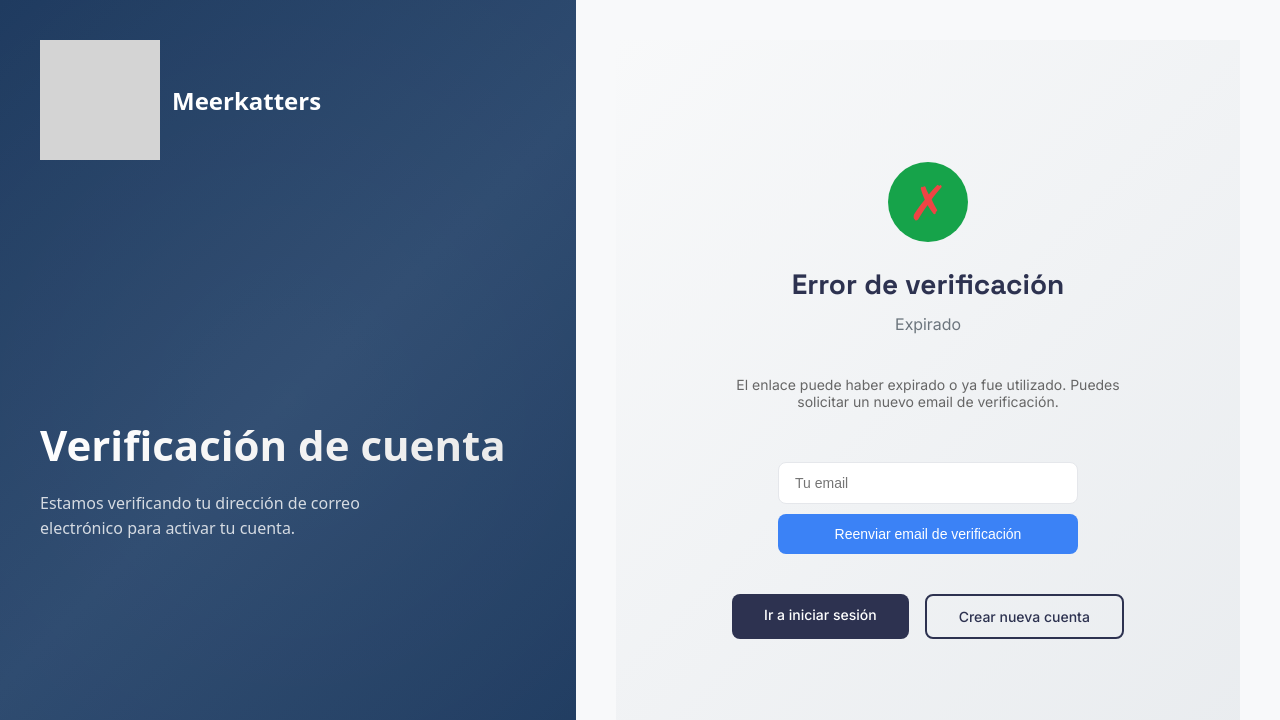
Test: VerifyEmail › resend verification with empty email shows error
The width and height of the screenshot is (1280, 720).
Click the button "Reenviar email de verificación". click: [928, 534]
box: 778,514 -> 1078,554
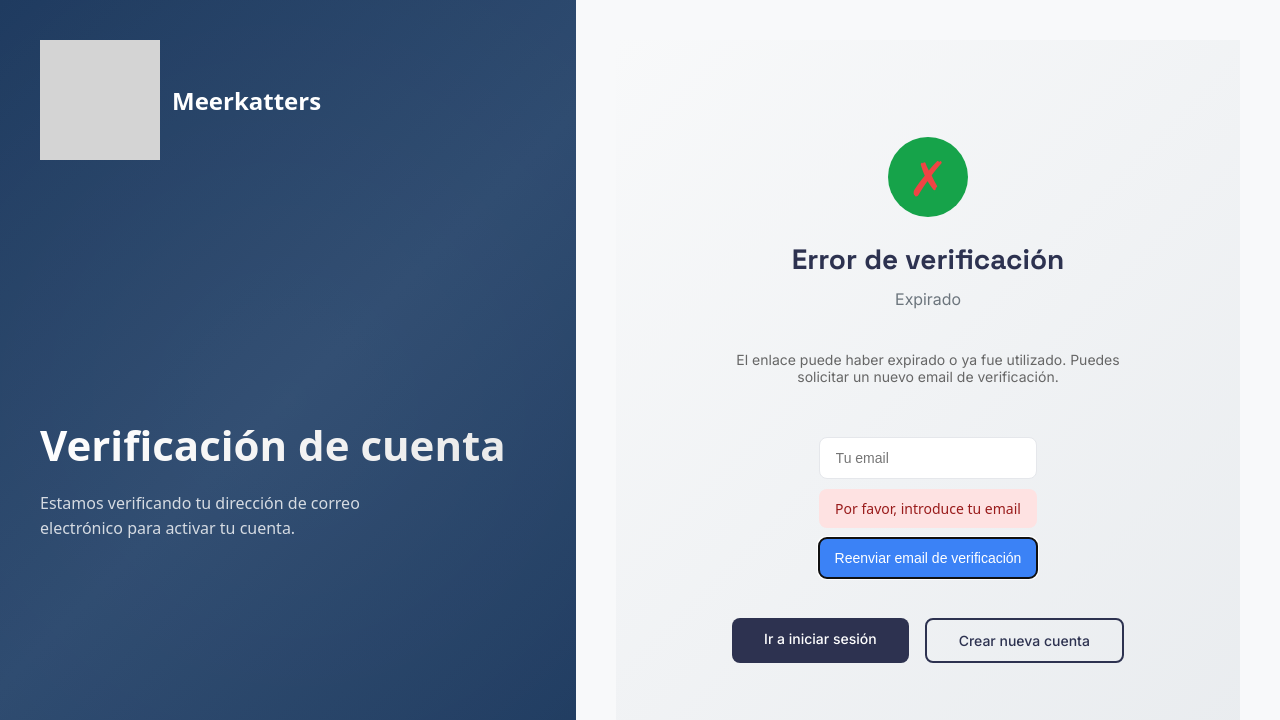
Check: the text "Por favor, introduce tu email" is shown, box 819,489 -> 1037,528
